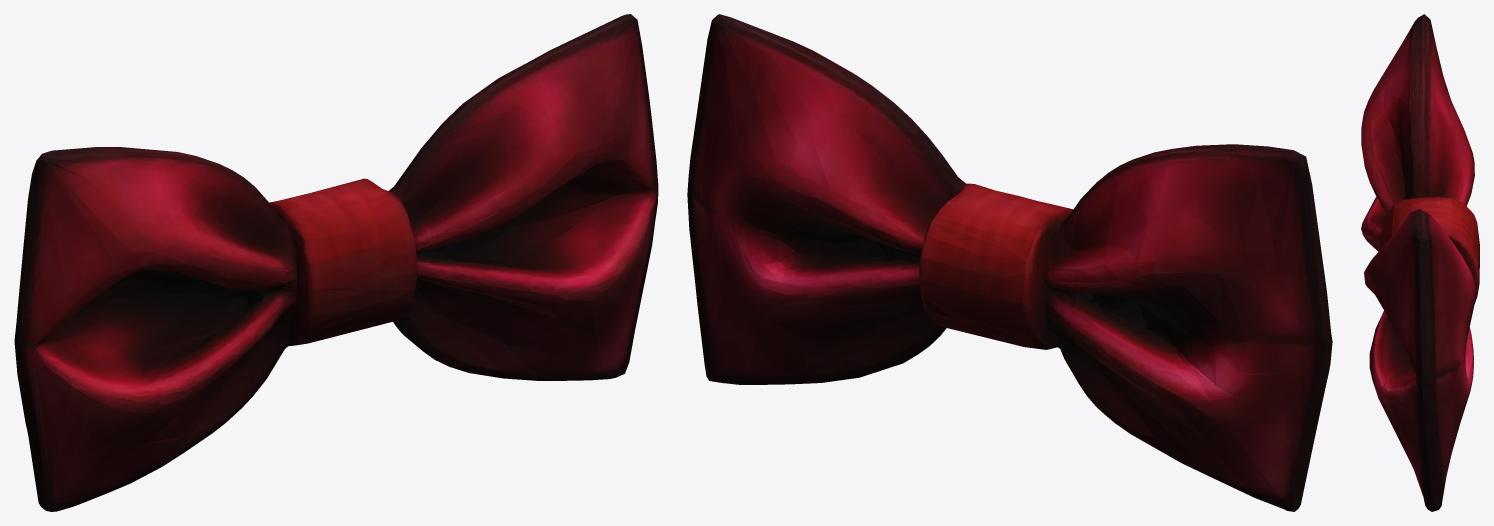
3 views of the same model, side by side, from view 1: azimuth 30°, elevation 25°; view 2: azimuth 150°, elevation 25°; view 3: azimuth 270°, elevation 25° (orthographic). The views are drawn at different scales.
Visible parts, largest first — view 1: geometry_0; view 2: geometry_0; view 3: geometry_0.
Boxes of the visible parts, <box> form: geometry_0: <box>14,14,658,511</box>; geometry_0: <box>687,14,1332,511</box>; geometry_0: <box>1361,14,1479,511</box>.
Size of the model in its own units: 0.9997 by 0.5497 by 0.21.
1 material, 1 textured.
